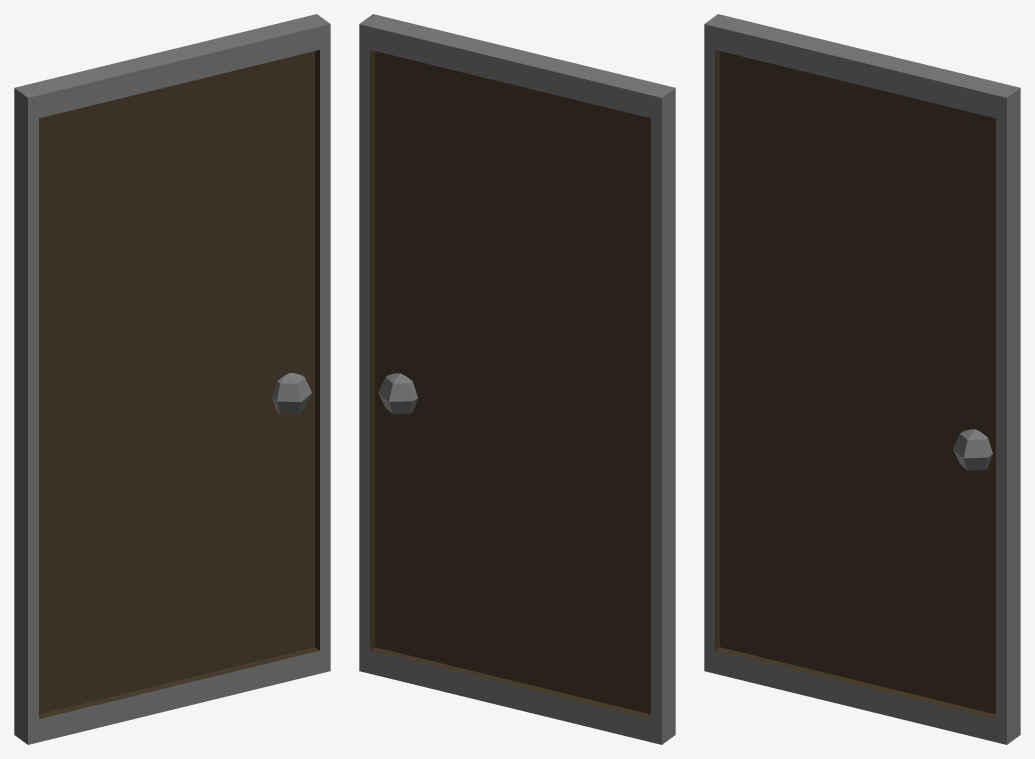
File: Door.fbx
3 views of the same model, side by side, from view 1: azimuth 30°, elevation 25°; view 2: azimuth 150°, elevation 25°; view 3: azimuth 330°, elevation 25° (orthographic).
Parts seen in each view (by area): view 1: Door; view 2: Door; view 3: Door.
Boxes of the visible parts, bbox=[...] form: Door: bbox=[14, 14, 330, 744]; Door: bbox=[359, 14, 675, 744]; Door: bbox=[704, 14, 1020, 744].
Bounding box in the file's own units: 80.05 × 163 × 12.58.
